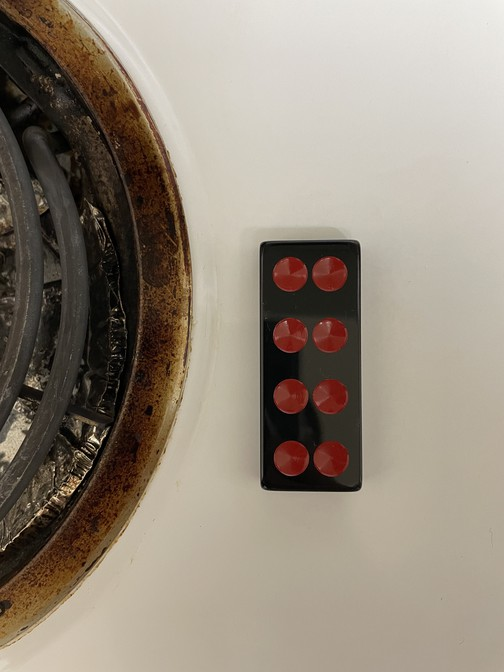man: (262, 243, 364, 491)
